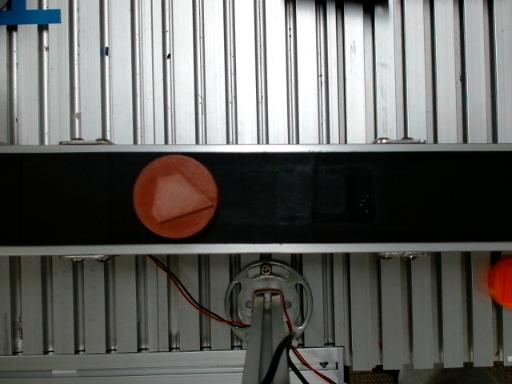Brown_Waper: (133, 155, 218, 239)
Not_Square: (151, 174, 215, 225)
